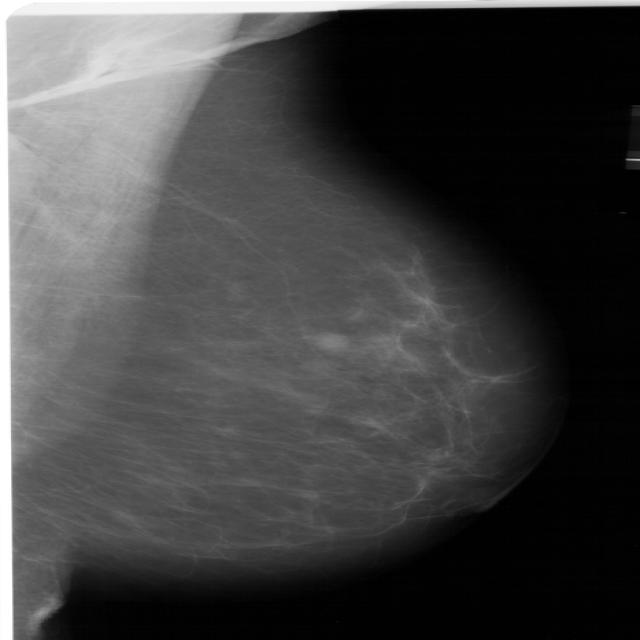tumour: (307, 330, 345, 350)
